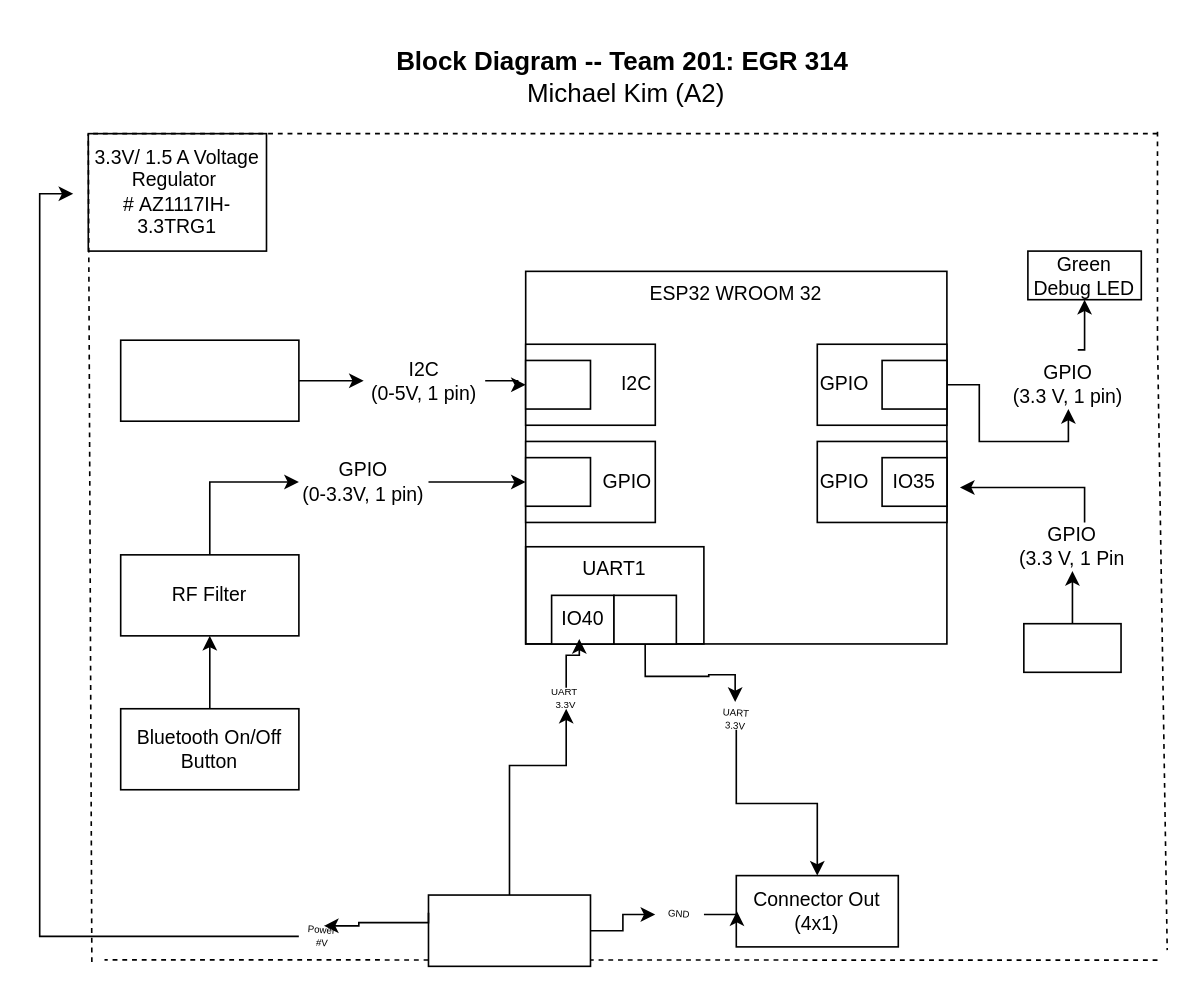
This 1197x995 diagram has some shape labels left out. The centre of each missing label's shape, as x and y in pixels:
Connector In (4x1): (508,929)
Debug Button: (1071,647)
IO15: (557,481)
IO16: (557,384)
IO36: (913,384)
IO39: (644,619)
RFCOMM BLE Client: (209,380)
